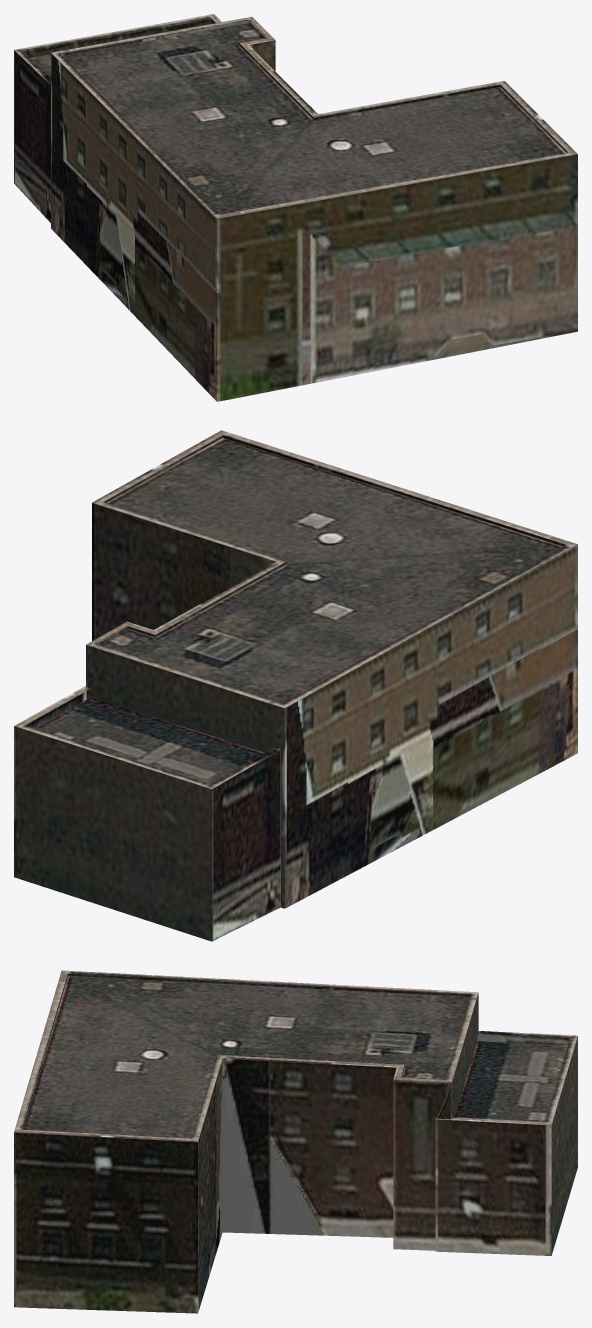
Rendered from Buildings_subset_37.dae.
3 views of the same model, one above another, from view 1: azimuth 30°, elevation 25°; view 2: azimuth 150°, elevation 25°; view 3: azimuth 270°, elevation 25° (orthographic). The views are drawn at different scales.
Parts seen in each view (by area): view 1: Buildings_subset_37.dae (×7); view 2: Buildings_subset_37.dae (×7); view 3: Buildings_subset_37.dae (×10).
Boxes of the visible parts, x1=… form: Buildings_subset_37.dae (×7): x1=14, y1=14, x2=577, y2=401; Buildings_subset_37.dae (×7): x1=14, y1=430, x2=577, y2=941; Buildings_subset_37.dae (×10): x1=14, y1=970, x2=577, y2=1313.
Bounding box in the file's own units: 74.45 × 103 × 36.56.
Materials: 1 (1 with a texture image).
